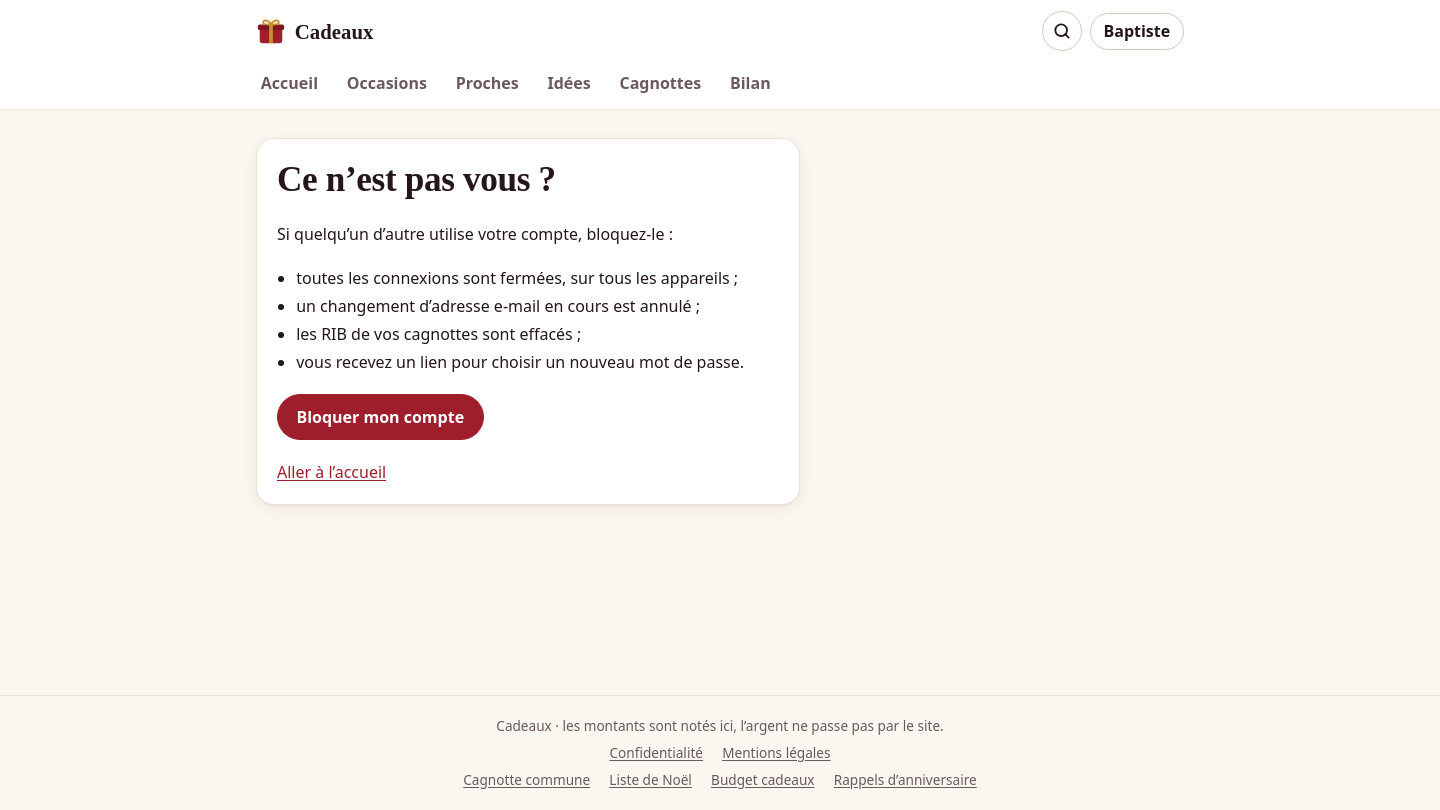
it: mot de passe et adresse › « Ce n’est pas moi » : rien ne se passe sans clic, puis le compte est bloqué
The width and height of the screenshot is (1440, 810).
Click the button "Bloquer mon compte".
click(380, 417)  # box [277, 394, 484, 440]
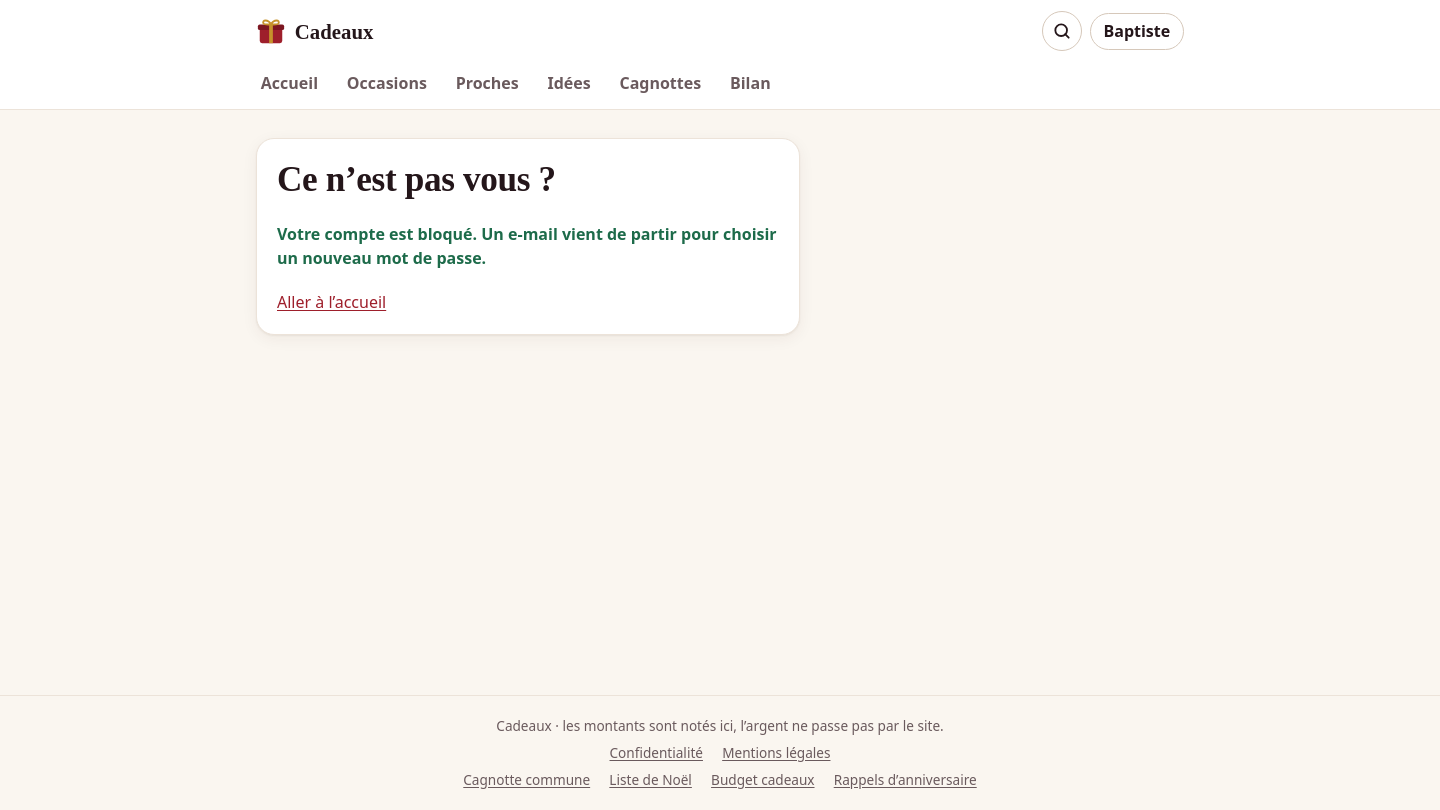
Now the text "Votre compte est bloqué" is shown, box [277, 223, 777, 269]
